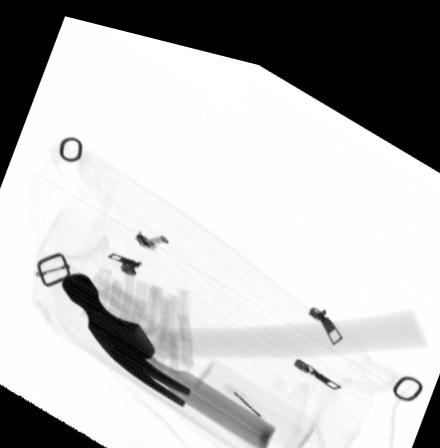Hammer: (59, 268, 427, 399)
